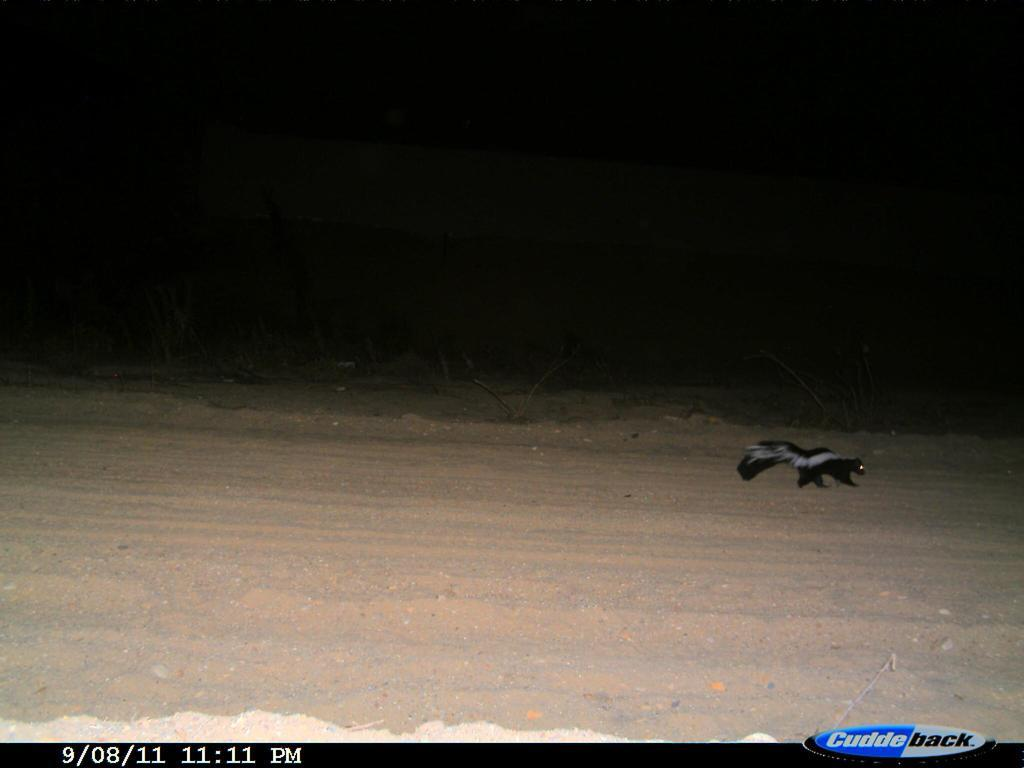skunk: (738, 432, 873, 504)
